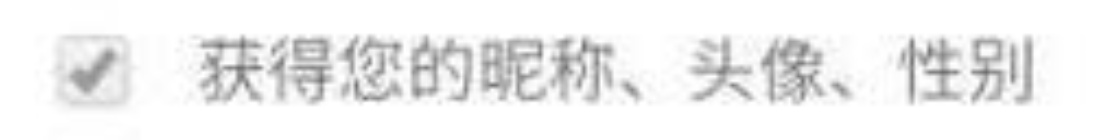CheckBox: (1, 1, 1097, 139)
